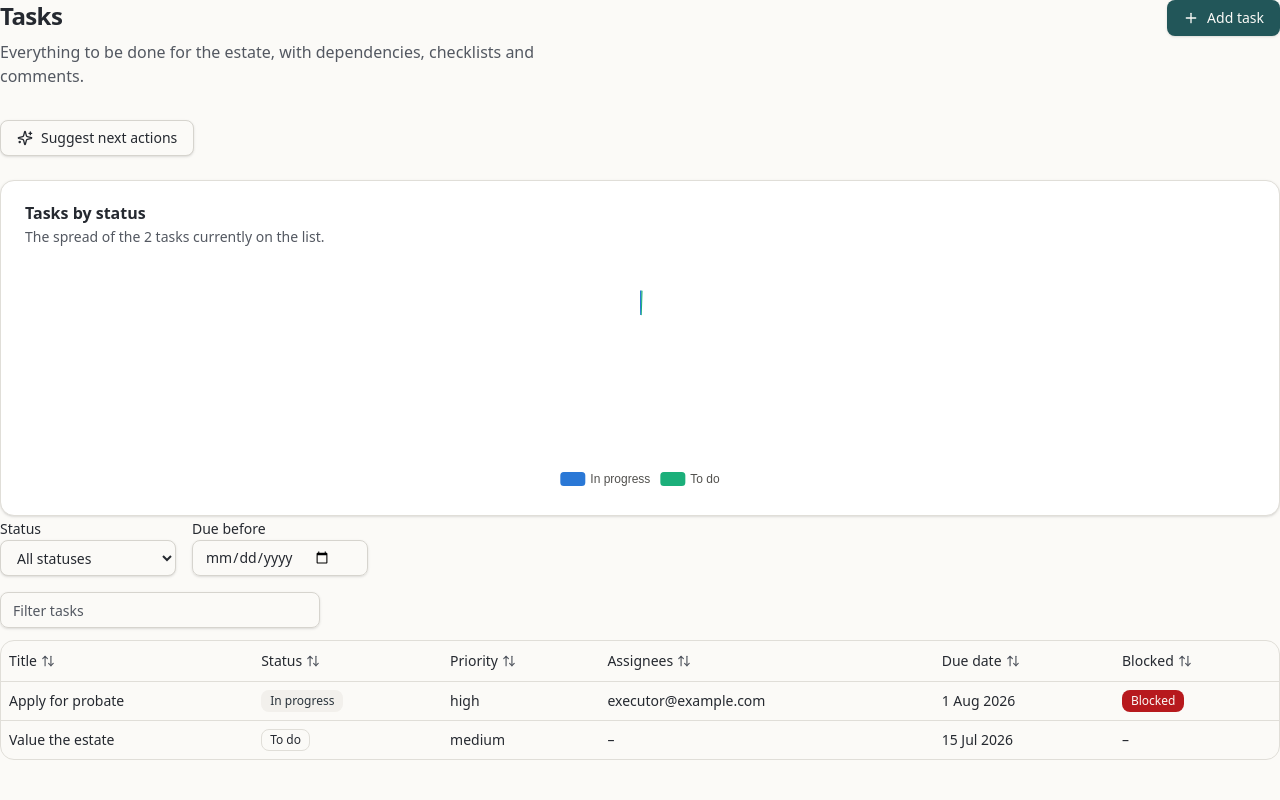
Scenario: TasksPage › surfaces the backend 409 blocking message when completing a blocked task
Click the text "Apply for probate": coordinates (67, 700) [9, 690, 124, 710]
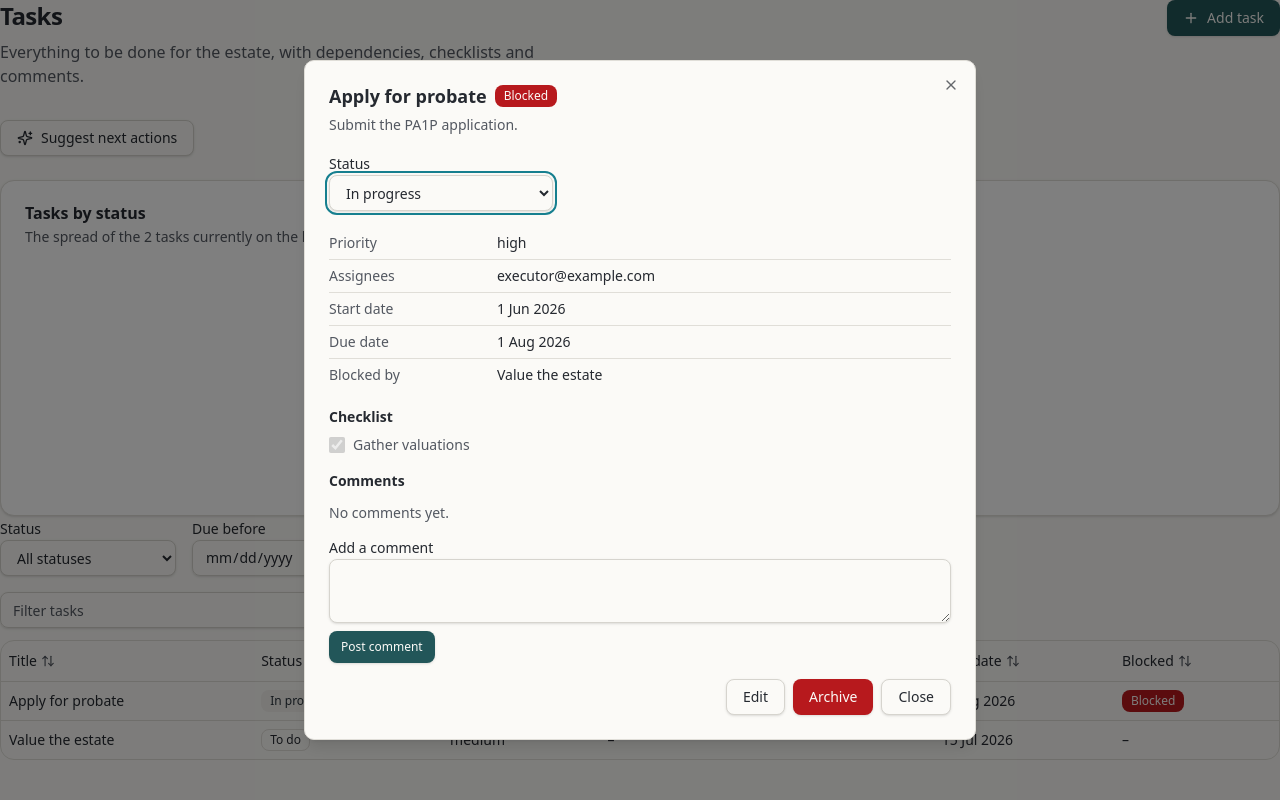
Select "Done" in the dropdown labelled "Status": coordinates (441, 193) [329, 175, 553, 211]
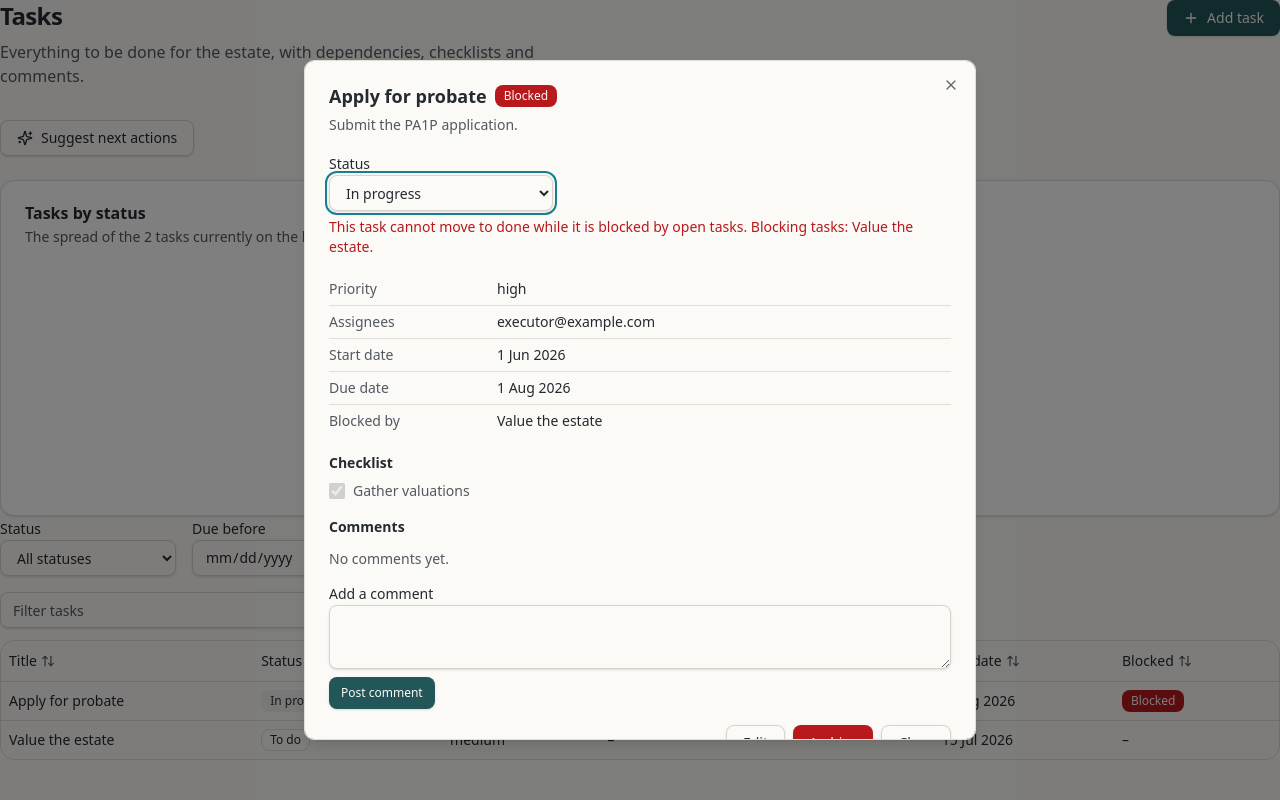
Check: the message shows "This task cannot move to done while it is blocked by open tasks.", box [329, 217, 913, 256]
Check: the message shows "Value the estate", box [329, 217, 913, 256]
